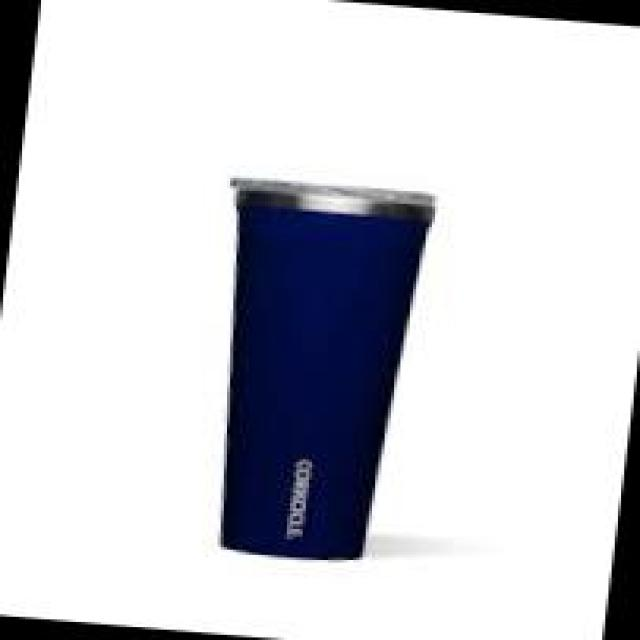bottle: (180, 173, 438, 565)
